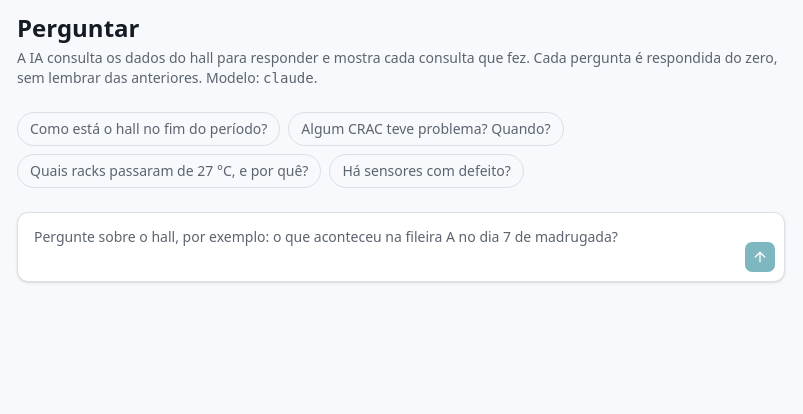
Test: Perguntar › mostra o erro do provedor que chega no meio do streaming
This screenshot has width=803, height=414.
Replace the text in the text box named "Sua pergunta" with "Quantos racks?" at (381, 247), box top-left (26, 221), bottom-right (736, 273)
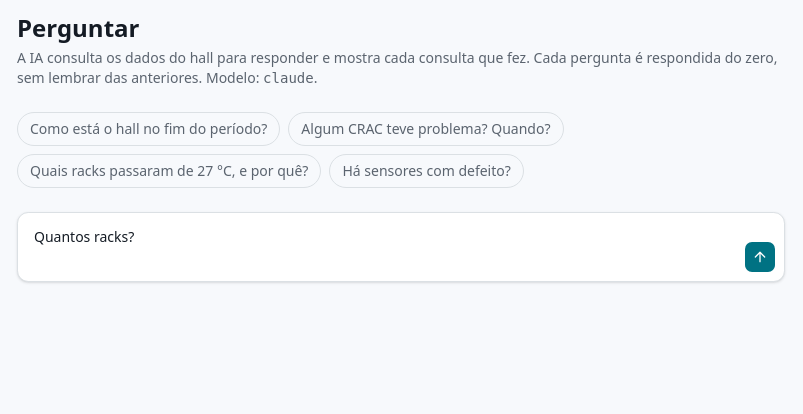
Click the button named "Enviar pergunta" at (760, 257), box top-left (744, 241), bottom-right (776, 273)
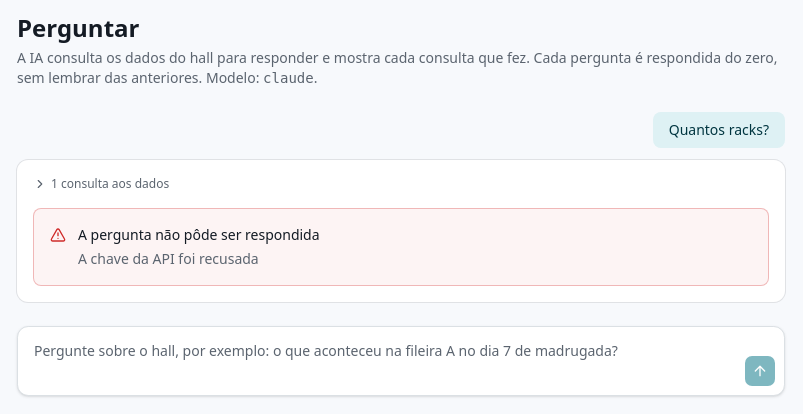
Result: the text "A chave da API foi recusada" is shown at top-left (78, 249), bottom-right (259, 268)
